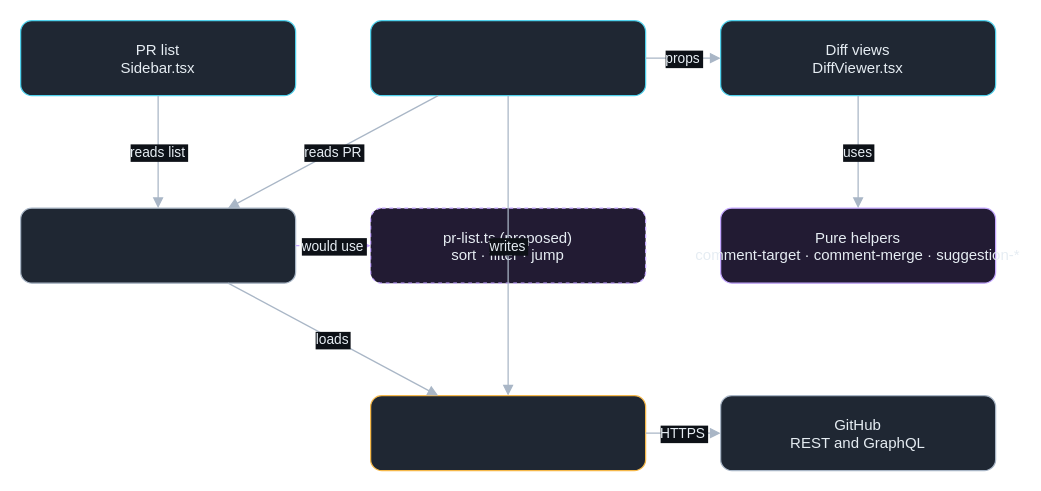
This 1041x491 diagram has some shape labels left out. Each missing label, with the centre of its shape:
"GitHub adapter github-api.ts" belongs at point (507, 432).
"PR detail PRDetail.tsx" belongs at point (507, 57).
"PR state app-context.tsx" belongs at point (157, 245).
